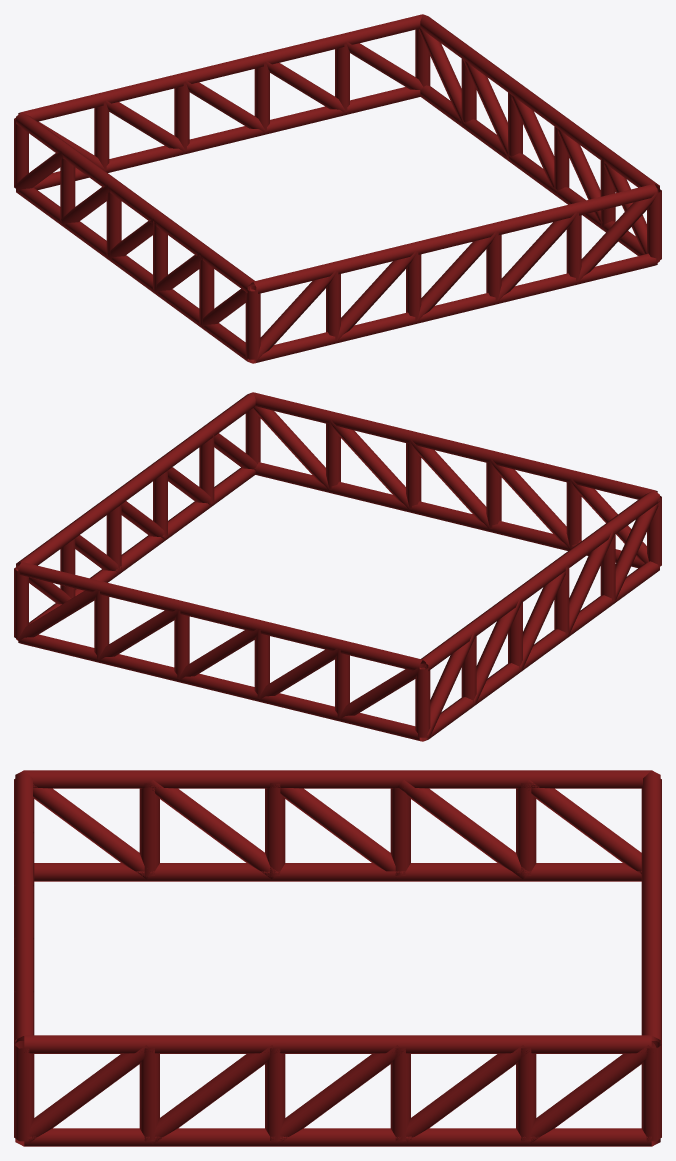
Rendered from andamio4.DAE.
3 views of the same model, one above another, from view 1: azimuth 30°, elevation 25°; view 2: azimuth 150°, elevation 25°; view 3: azimuth 270°, elevation 25° (orthographic). The views are drawn at different scales.
Parts seen in each view (by area): view 1: andamio18_4; view 2: andamio18_4; view 3: andamio18_4.
Boxes of the visible parts, box(x1,y1,x2,y2) form: andamio18_4: box(14, 14, 661, 363); andamio18_4: box(14, 392, 661, 741); andamio18_4: box(14, 770, 661, 1146).
Bounding box in the file's own units: 18.92 × 19 × 3.6.
